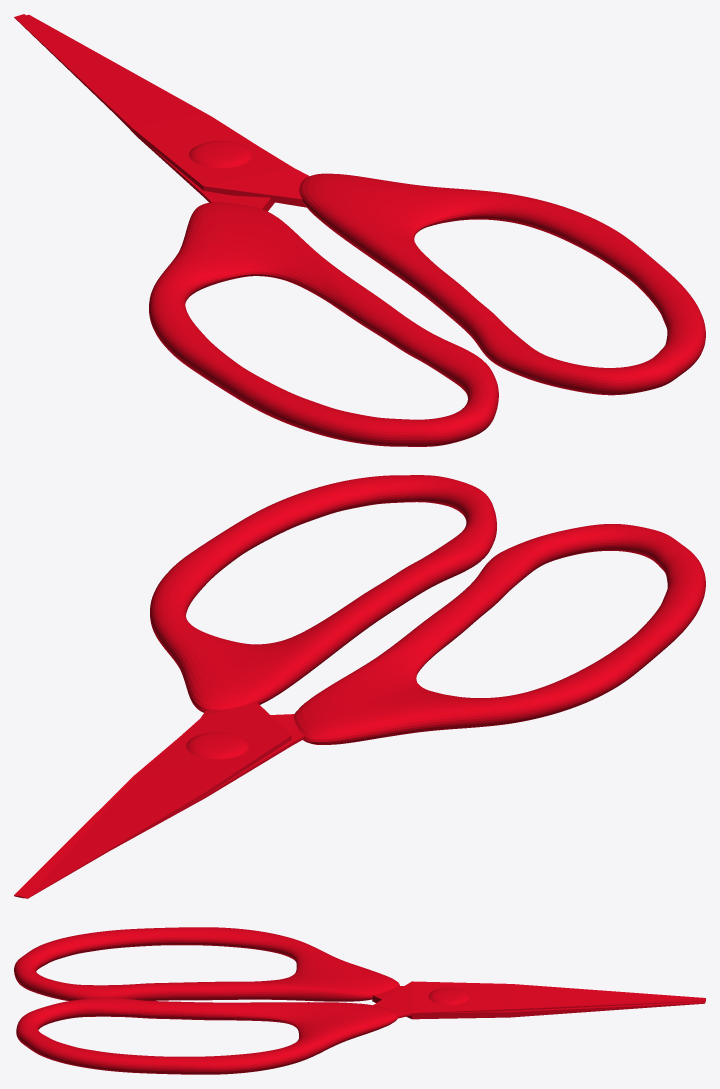
Rendered from Nojnitcy_High.fbx.
3 renders of one model, top to bottom at view 1: azimuth 30°, elevation 25°; view 2: azimuth 150°, elevation 25°; view 3: azimuth 270°, elevation 25°, orthographic. The views are drawn at different scales.
Parts seen in each view (by area): view 1: Nojnitcy_High; view 2: Nojnitcy_High; view 3: Nojnitcy_High.
Boxes of the visible parts, box(x1,y1,x2,y2) form: Nojnitcy_High: box(14, 14, 705, 446); Nojnitcy_High: box(14, 475, 705, 898); Nojnitcy_High: box(14, 927, 705, 1074).
Size of the model in its own units: 8.45 by 0.4652 by 17.47.
